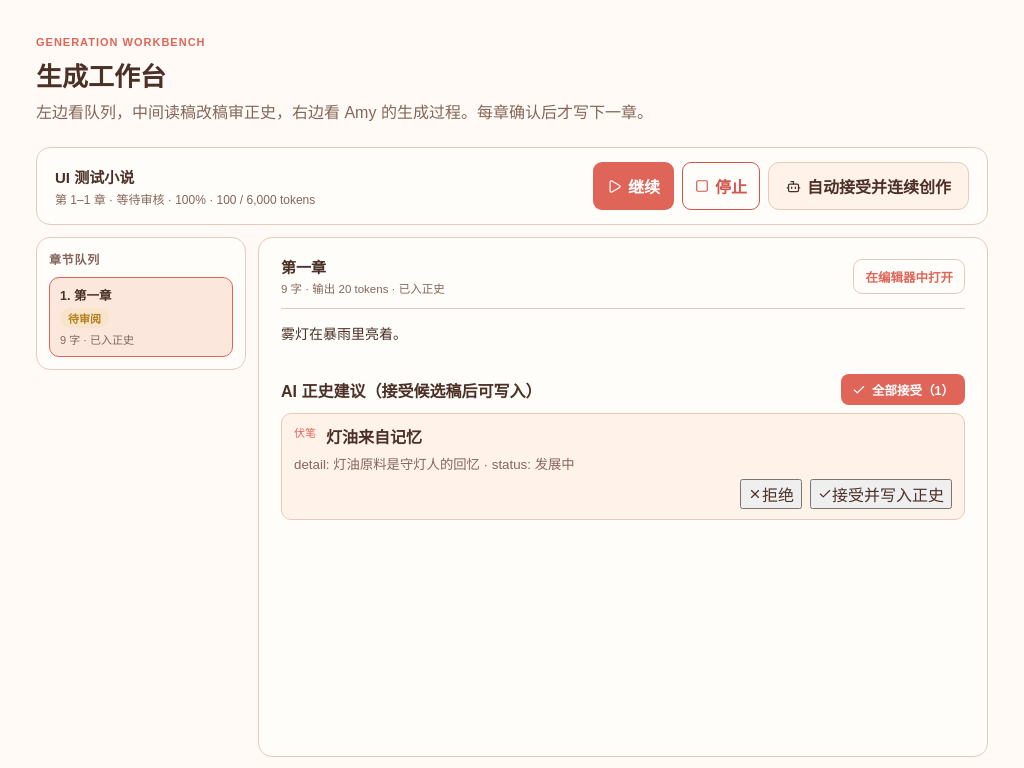
Test: 生成工作台自动审阅 UI（AN-026） › 候选稿已接受：全部接受按钮批量写入正史建议
The width and height of the screenshot is (1024, 768).
Click the button "全部接受（1）": click(903, 390) [841,374,965,405]
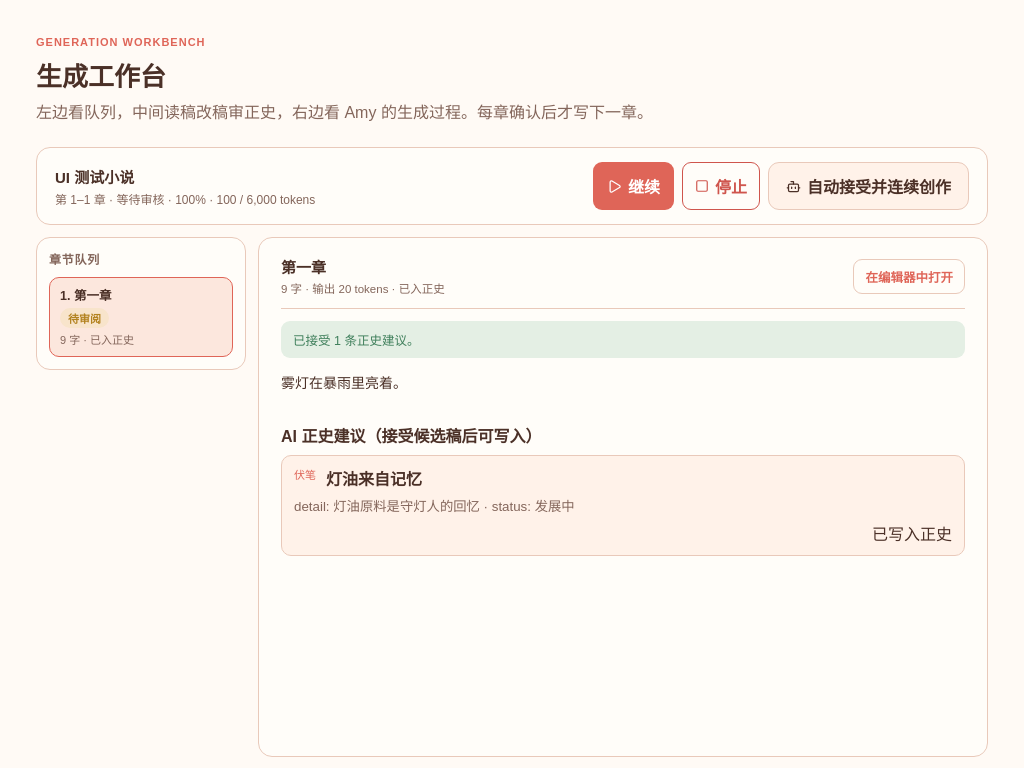
Check: the text "已接受 1 条正史建议。" is shown, box [281,321,965,358]
